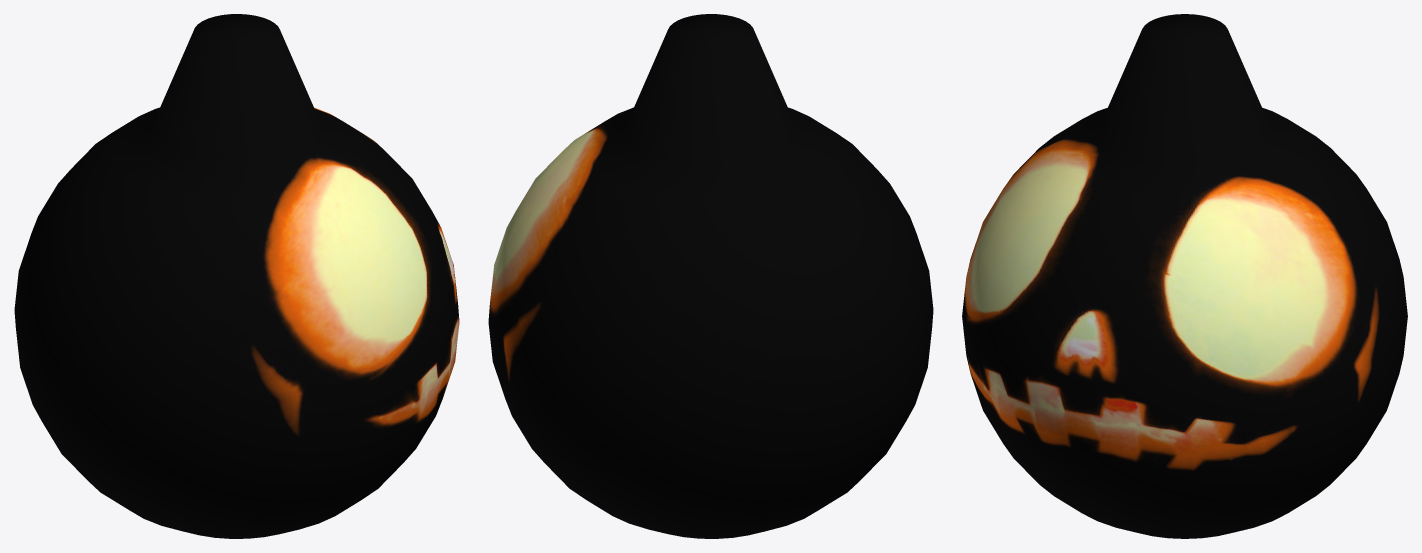
The model's file is pumpkinScaled.fbx.
The picture shows the model from 3 angles, left to right: view 1: azimuth 30°, elevation 25°; view 2: azimuth 150°, elevation 25°; view 3: azimuth 270°, elevation 25°; orthographic projection.
Parts seen in each view (by area): view 1: Bomb; view 2: Bomb; view 3: Bomb.
Boxes of the visible parts, <box> form: Bomb: <box>14,14,459,538</box>; Bomb: <box>488,14,933,538</box>; Bomb: <box>962,14,1407,538</box>.
Size of the model in its own units: 0.012 by 0.0145 by 0.012.
